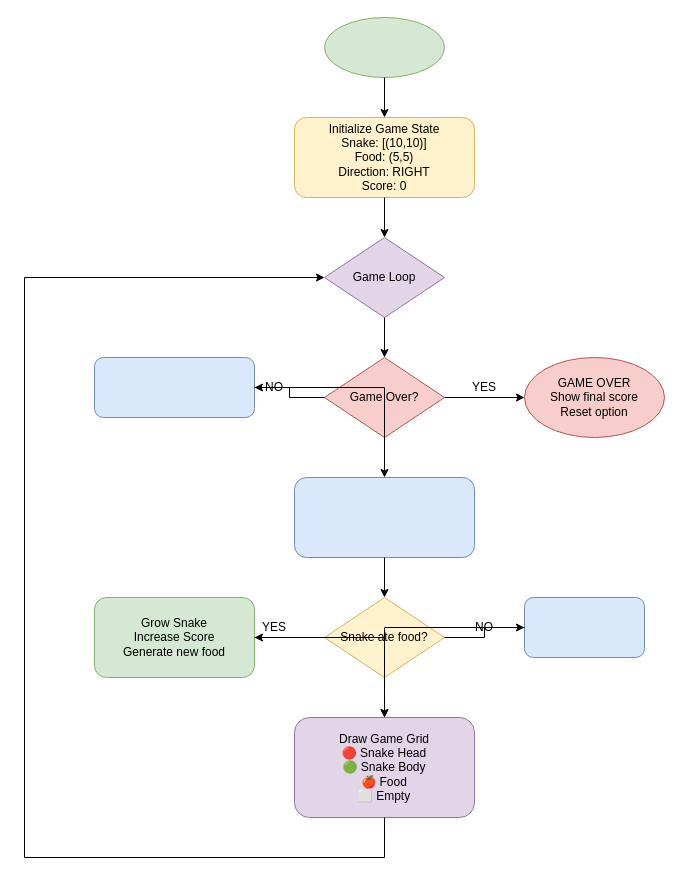
The diagram is 682 pixels wide and 883 high, and some of its shapes have lost their labels. The centre of each missing label's shape, as x and y in pixels:
"Handle Keyboard Input Arrow Keys / Buttons" goes at pixel 174 387.
"Move Snake Calculate new head position Check boundaries Check self collision" goes at pixel 384 517.
"Remove Snake Tail" goes at pixel 584 627.
"START" goes at pixel 384 47.
